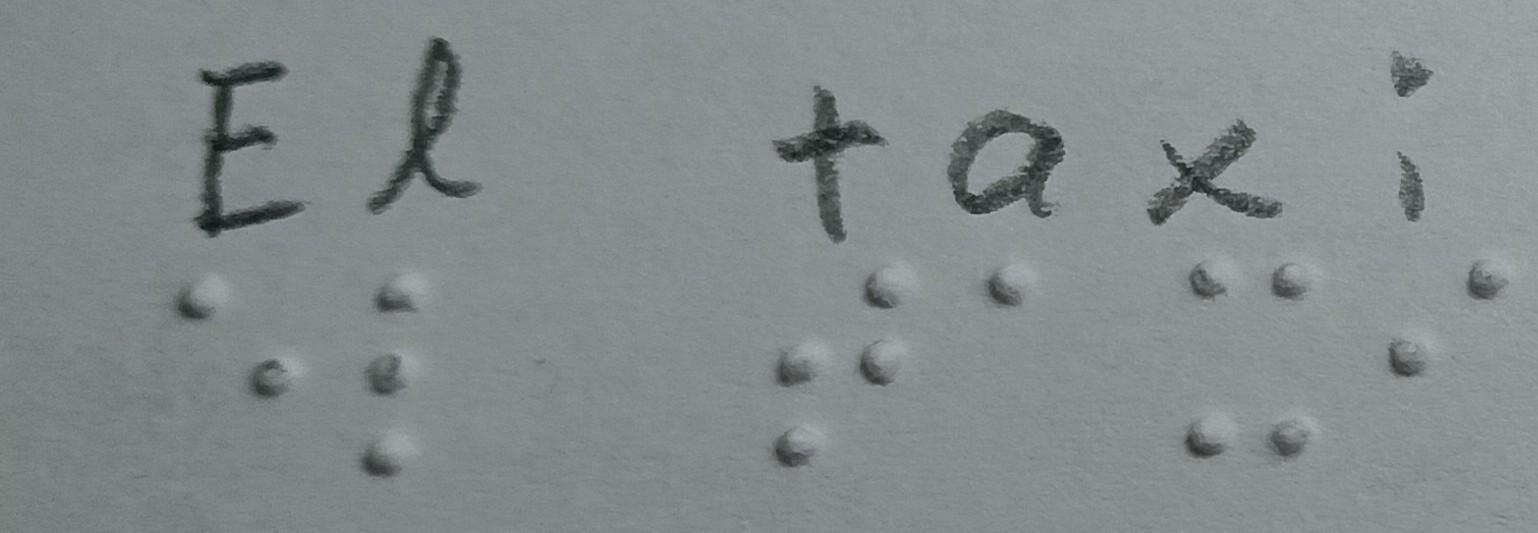a: (944, 252, 1052, 326)
e: (164, 252, 318, 436)
i: (1348, 236, 1510, 414)
l: (338, 248, 436, 496)
t: (718, 262, 926, 476)
x: (1150, 246, 1330, 458)
